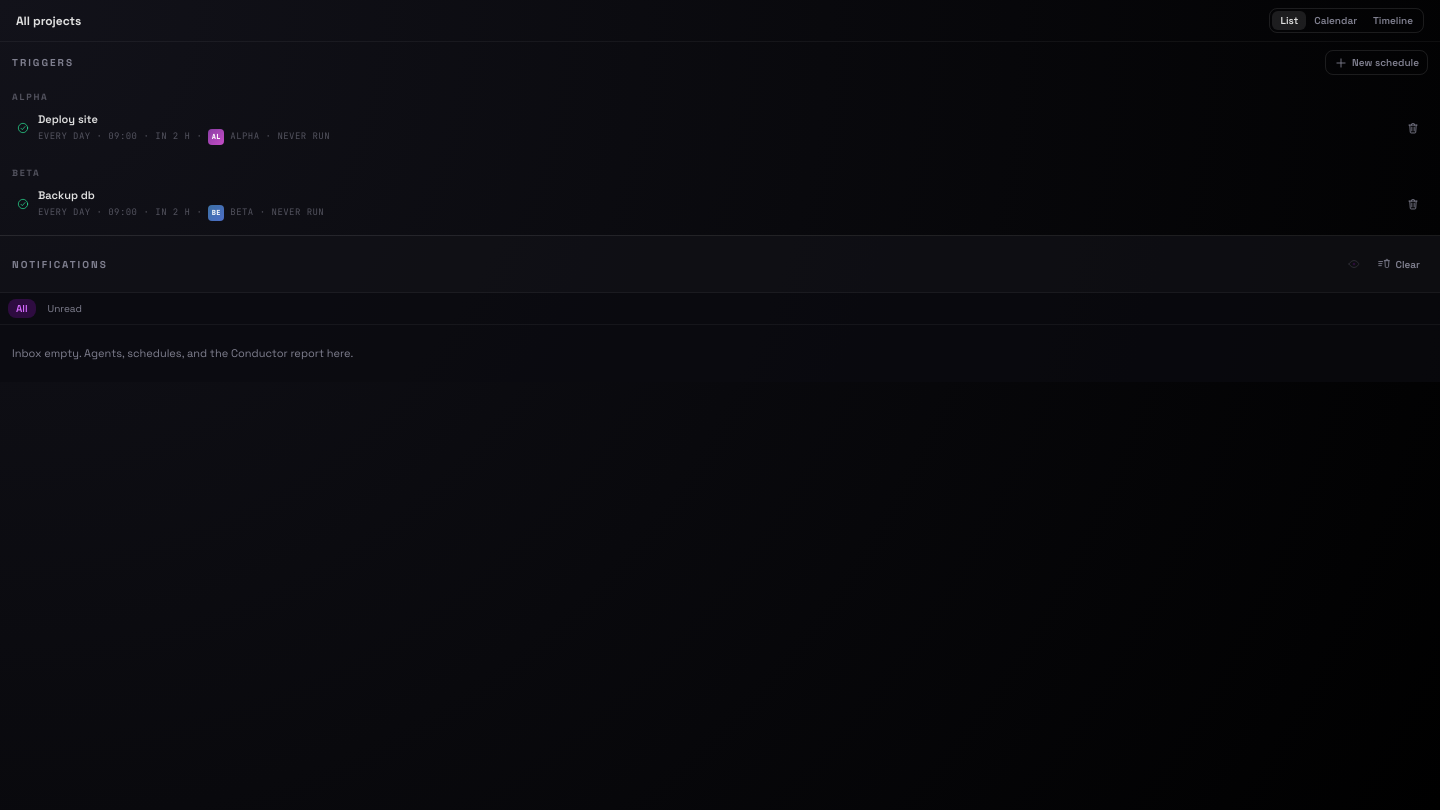
Test case: schedule view modes › keeps the inbox below whatever view is chosen
The image size is (1440, 810).
Click the radio button with test id "schedule-view-calendar": (1336, 20) [1306, 11, 1365, 30]
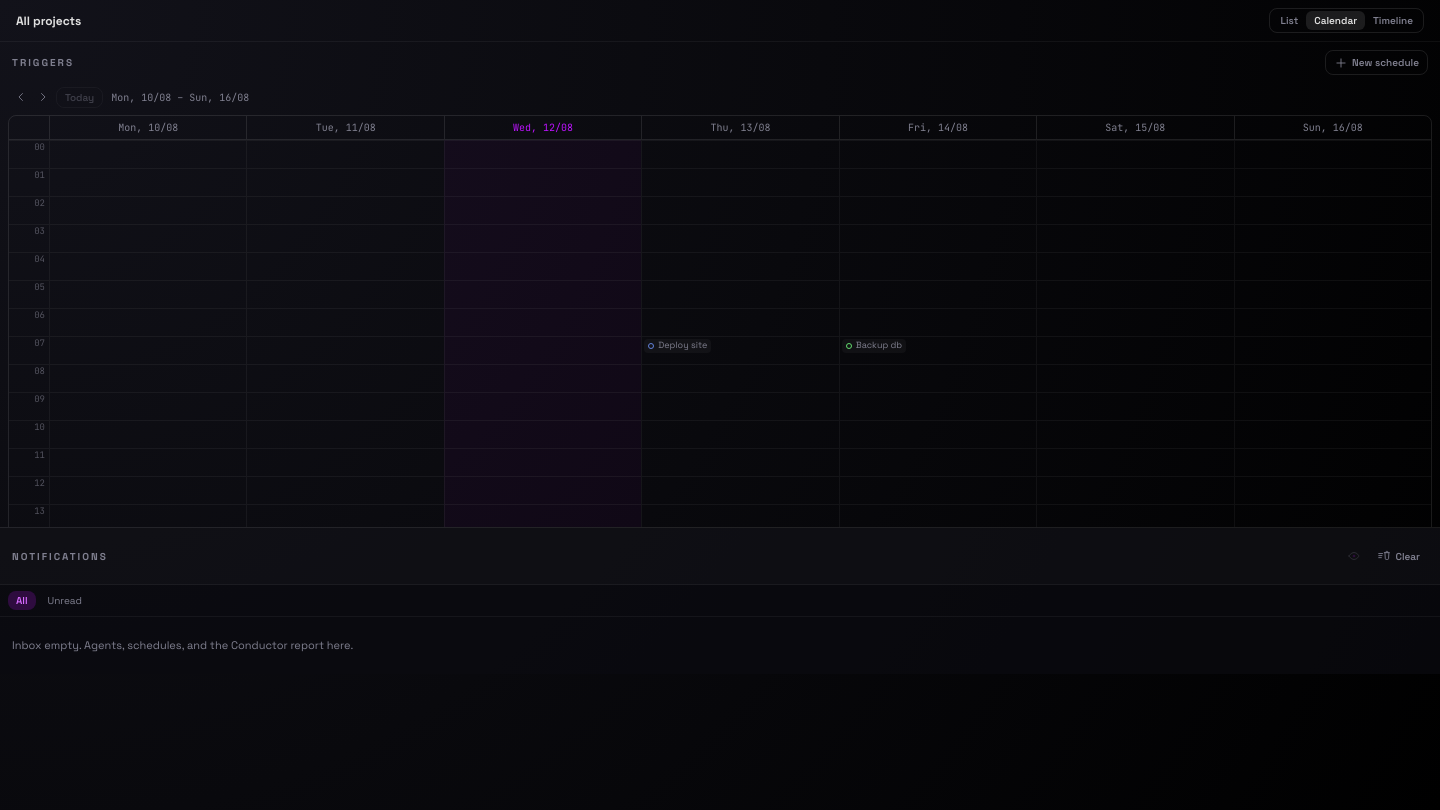
Expected: the element with test id "command-center-triggers" is shown, [0, 42, 1439, 528]
Now the element with test id "schedules-group-alpha" is gone
